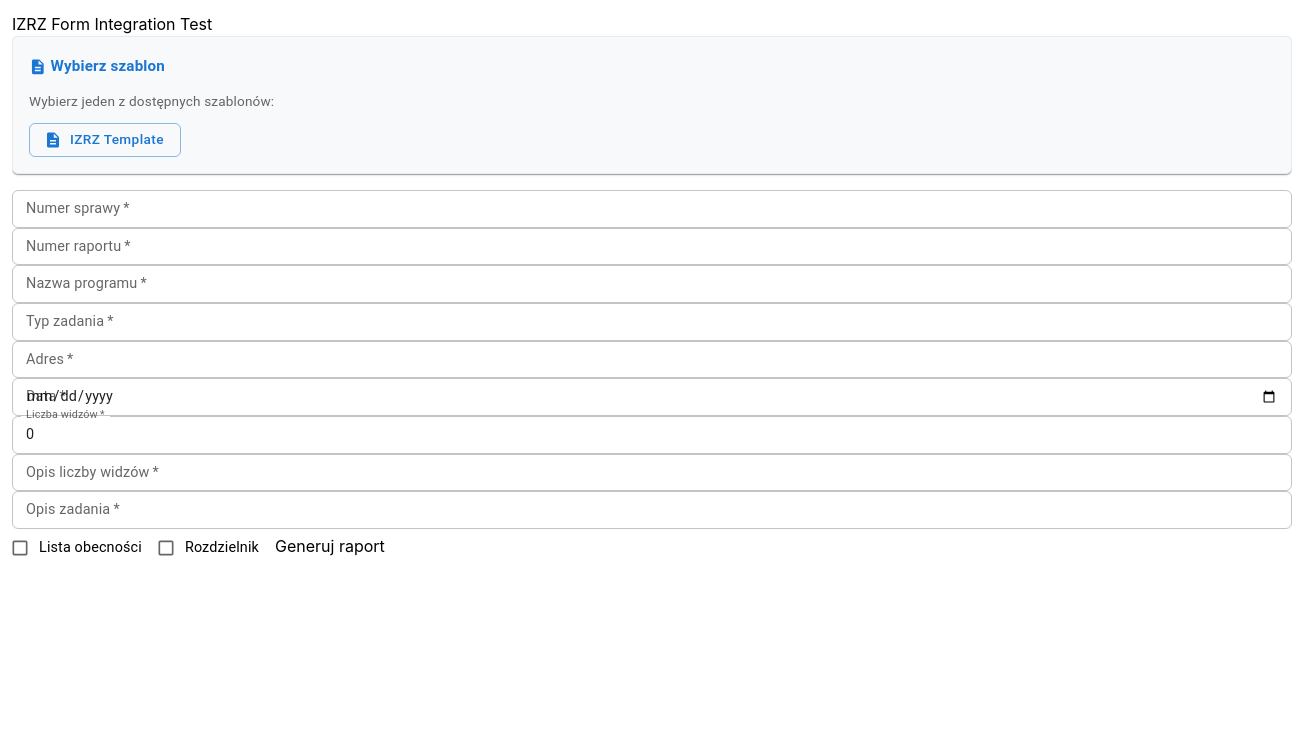
Test: IZRZ Form Integration › complete form workflow › should handle template loading errors
Click the button "IZRZ Template" at [105, 140], box [29,123,181,157]
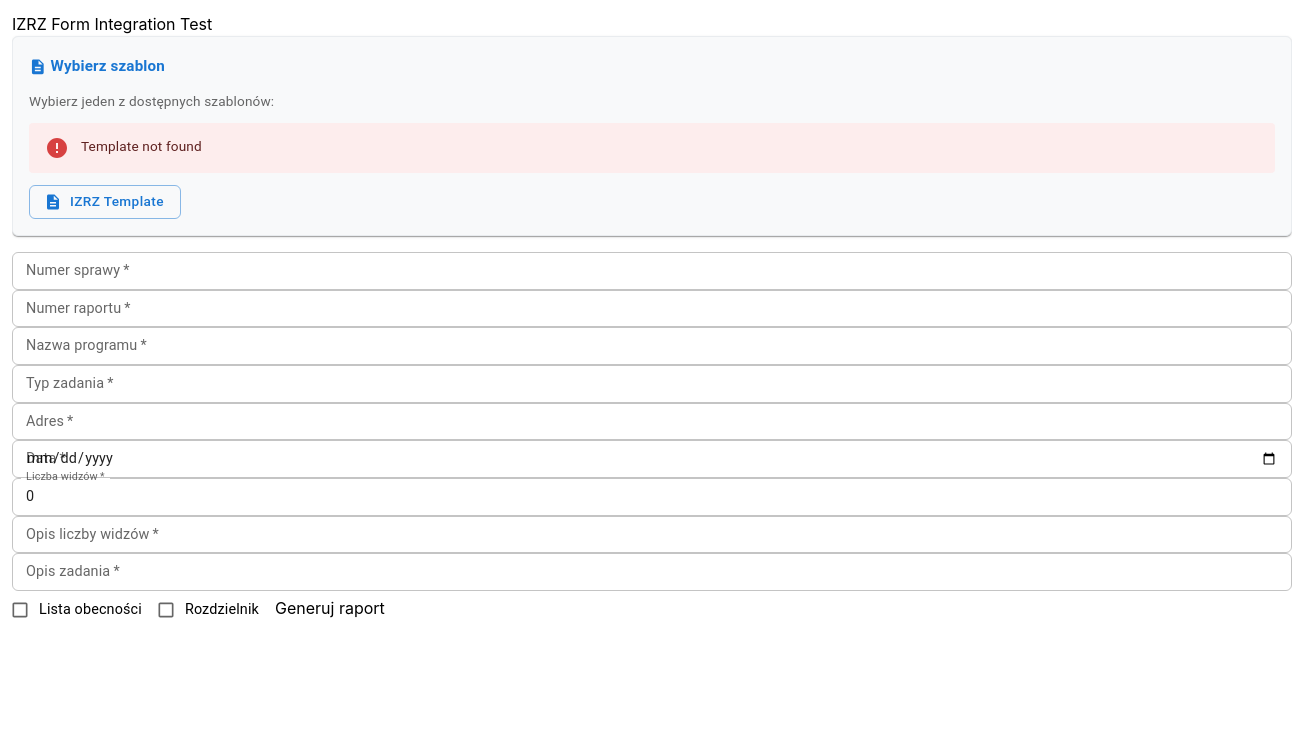
expect the text "Template not found" is shown: met, box [81,138,202,154]
